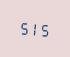five: (18, 18, 27, 36), (39, 20, 48, 38)
one: (29, 19, 38, 37)
